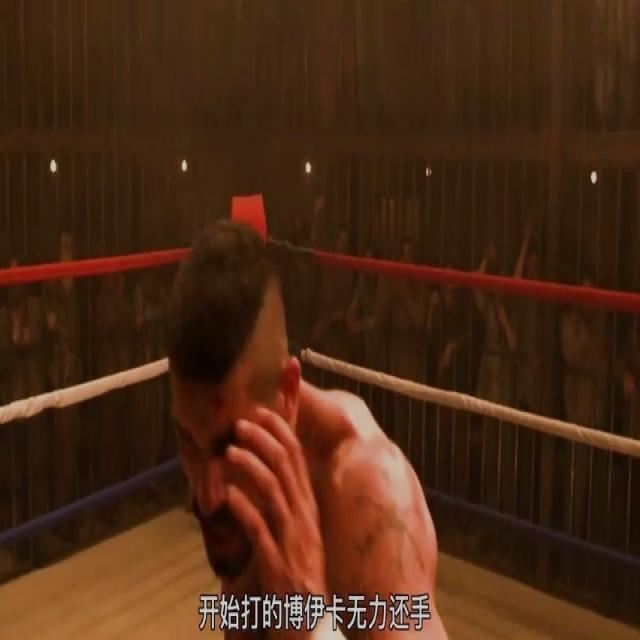fight: (154, 146, 445, 638)
